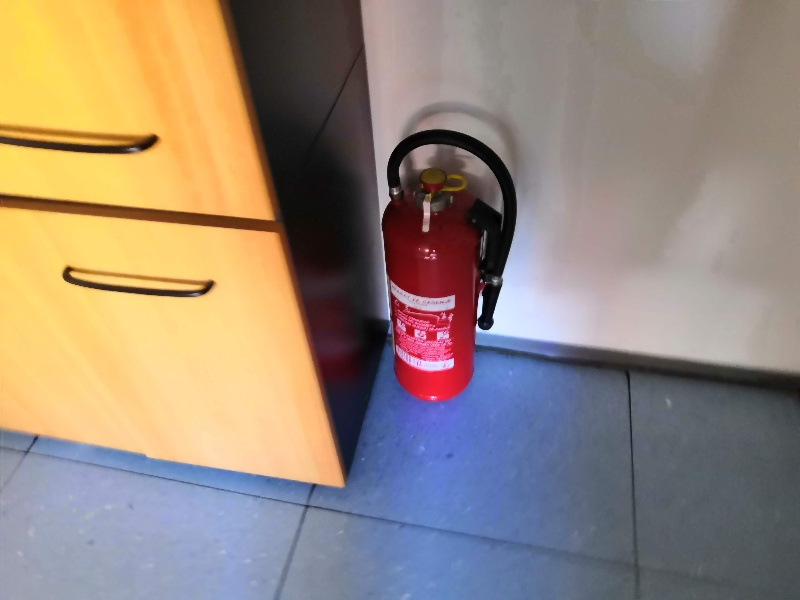vataparat: (383, 131, 517, 401)
